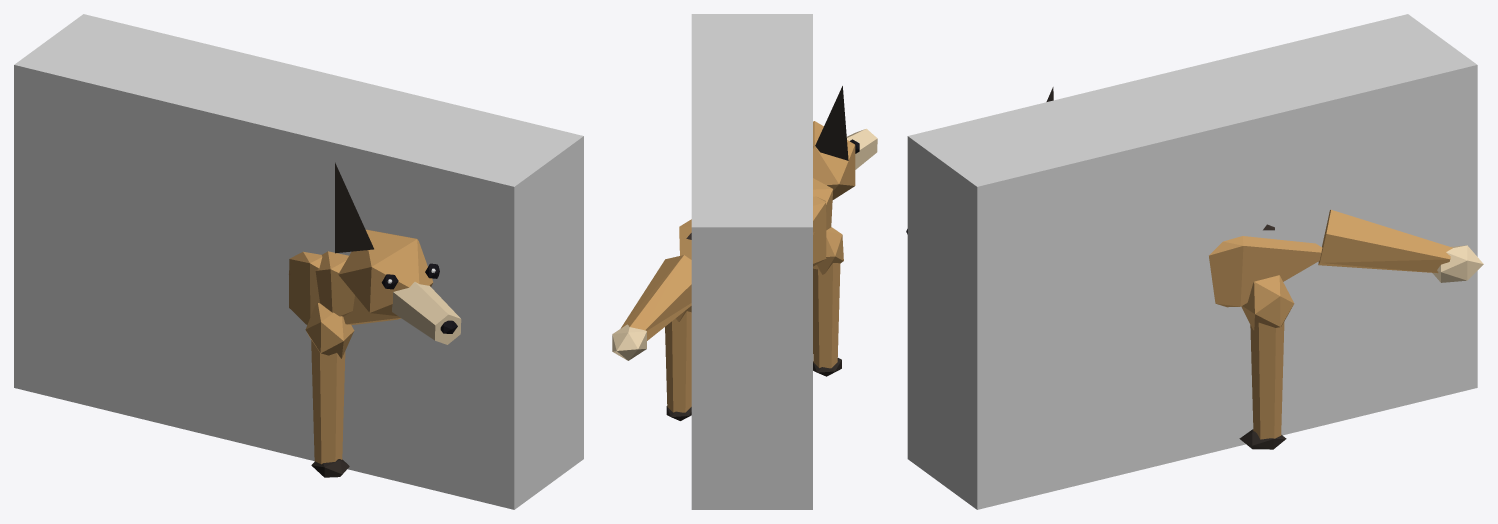
File: desert_jackal.fbx
3 renders of one model, left to right at view 1: azimuth 30°, elevation 25°; view 2: azimuth 150°, elevation 25°; view 3: azimuth 270°, elevation 25°, orthographic. The views are drawn at different scales.
Parts seen in each view (by area): view 1: Root__-0.02_2.00_0.29__1.56_4.00_6.48, Head__Body__0.00_2.38_-0.91, LegFR__Body__0.47_1.73_-1.01, Body__Root__0.00_2.17_0.00; view 2: Root__-0.02_2.00_0.29__1.56_4.00_6.48, Tail__Body__0.00_2.39_1.74, Head__Body__0.00_2.38_-0.91, LegFR__Body__0.47_1.73_-1.01, LegBL__Body__-0.47_1.73_1.10, Body__Root__0.00_2.17_0.00; view 3: Root__-0.02_2.00_0.29__1.56_4.00_6.48, Tail__Body__0.00_2.39_1.74, LegBL__Body__-0.47_1.73_1.10, Body__Root__0.00_2.17_0.00.
Boxes of the visible parts, box(x1,y1,x2,y2) form: Root__-0.02_2.00_0.29__1.56_4.00_6.48: box(14, 14, 583, 509); Head__Body__0.00_2.38_-0.91: box(335, 162, 461, 344); LegFR__Body__0.47_1.73_-1.01: box(305, 303, 354, 477); Body__Root__0.00_2.17_0.00: box(289, 251, 401, 325); Root__-0.02_2.00_0.29__1.56_4.00_6.48: box(691, 14, 812, 509); Tail__Body__0.00_2.39_1.74: box(612, 255, 691, 360); Head__Body__0.00_2.38_-0.91: box(813, 86, 877, 199); LegFR__Body__0.47_1.73_-1.01: box(813, 227, 843, 376); LegBL__Body__-0.47_1.73_1.10: box(665, 306, 691, 420); Body__Root__0.00_2.17_0.00: box(679, 178, 833, 266); Root__-0.02_2.00_0.29__1.56_4.00_6.48: box(907, 14, 1477, 509); Tail__Body__0.00_2.39_1.74: box(1318, 209, 1483, 282); LegBL__Body__-0.47_1.73_1.10: box(1239, 275, 1294, 449); Body__Root__0.00_2.17_0.00: box(1209, 224, 1322, 307).
Size of the model in its own units: 129 by 112 by 182.
Materials: 1 (1 with a texture image).
